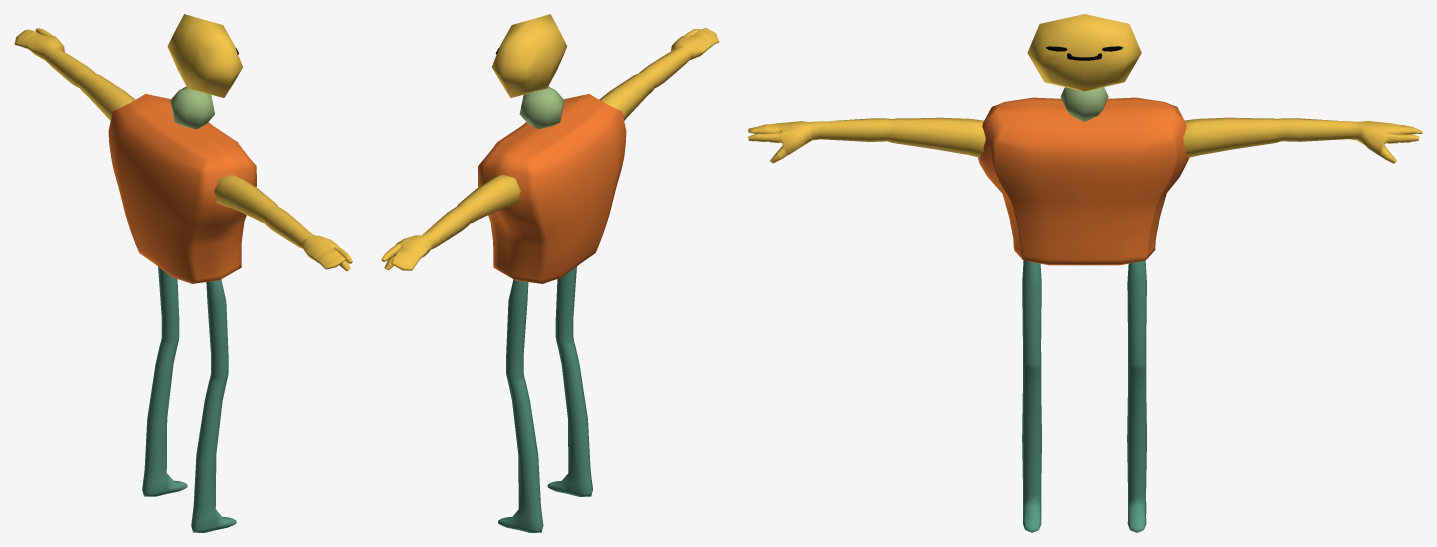
Rendered from shape-guy-by-polygonal-mind-UxzprXN1jW.glb.
3 views of the same model, side by side, from view 1: azimuth 30°, elevation 25°; view 2: azimuth 150°, elevation 25°; view 3: azimuth 270°, elevation 25° (orthographic). The views are drawn at different scales.
Visible parts, largest first — view 1: Body_14; view 2: Body_14; view 3: Body_14.
Boxes of the visible parts, x1=… form: Body_14: x1=14, y1=14, x2=352, y2=532; Body_14: x1=381, y1=14, x2=719, y2=532; Body_14: x1=748, y1=14, x2=1422, y2=532.
Size of the model in its own units: 1.02 by 5.45 by 6.44.
Materials: 1 (1 with a texture image).
